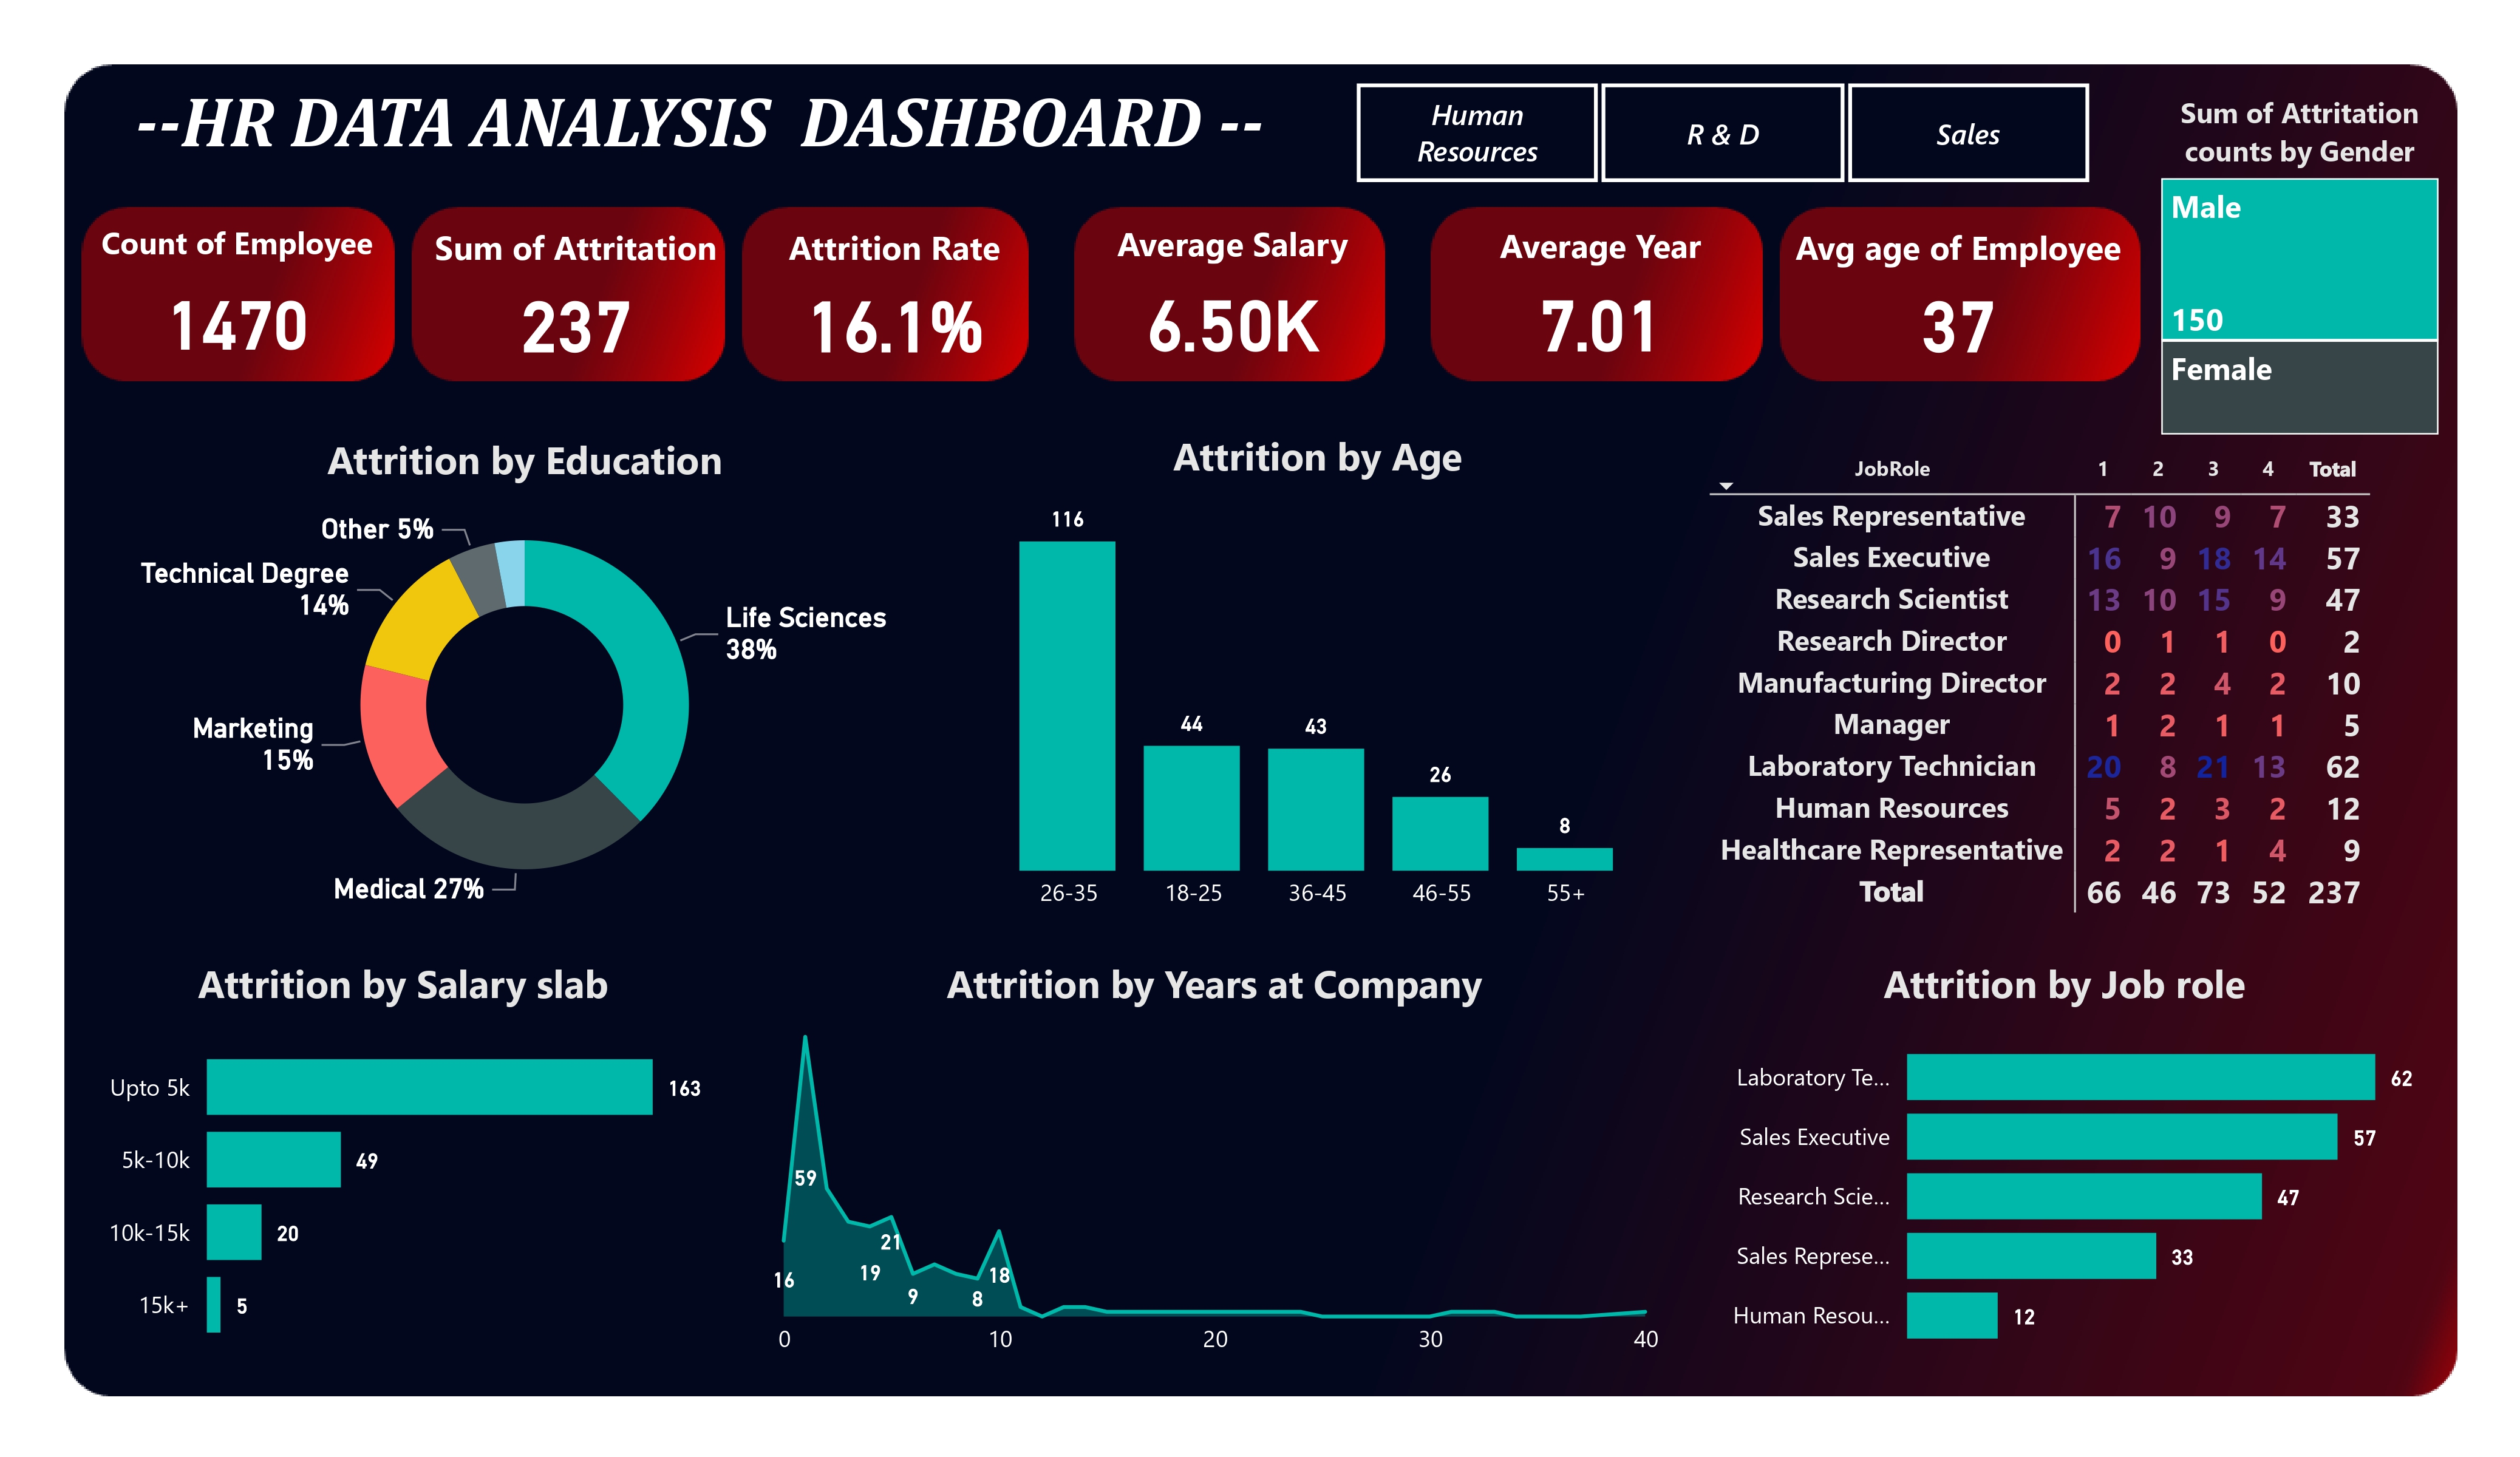

Layout of this report page (visuals, bound fields, positions):
{"tool":"powerbi","page":{"name":"HR data analysis","canvas":[1280,720],"ordinal":2},"visuals":[{"type":"card","title":"Count of Employee","fields":{"Values":["CountNonNull(HR_Analytics.EmpID)"]},"box":[20,92.9,162.1,81.1],"z":0,"group":"g1"},{"type":"donutChart","title":"Attrition by Education","fields":{"Category":["HR_Analytics.EducationField"],"Y":["Sum(HR_Analytics.Attritation counts)"]},"box":[23.5,203.6,458.1,261],"z":0},{"type":"card","title":"Sum of  Attritation","fields":{"Values":["Sum(HR_Analytics.Attritation counts)"]},"box":[195.2,93.5,169.3,79.9],"z":1000,"group":"g1"},{"type":"clusteredColumnChart","title":"Attrition by Age","fields":{"Category":["HR_Analytics.AgeGroup"],"Y":["Sum(HR_Analytics.Attritation counts)"]},"box":[481.6,202.3,377.2,262.3],"z":1000},{"type":"card","title":"Attrition Rate","fields":{"Values":["HR_Analytics.Attritation Rate"]},"box":[370.5,93.5,155,79.9],"z":2000,"group":"g1"},{"type":"pivotTable","title":"Job Satisfaction","fields":{"Values":["Sum(HR_Analytics.Attritation counts)"],"Rows":["HR_Analytics.JobRole"],"Columns":["HR_Analytics.JobSatisfaction"]},"box":[871.8,210.1,374.6,255.8],"z":2000},{"type":"card","title":"Avg age of Employee","fields":{"Values":["Avg(HR_Analytics.Age)"]},"box":[915.2,93.5,186,79.9],"z":3000,"group":"g1"},{"type":"treemap","fields":{"Group":["HR_Analytics.Gender"],"Values":["Sum(HR_Analytics.Attritation counts)"]},"box":[1110.2,25.2,155.3,184.7],"z":3000},{"type":"card","title":"Average Salary ","fields":{"Values":["Avg(HR_Analytics.MonthlyIncome)"]},"box":[543.3,91.7,164.5,83.4],"z":4000,"group":"g1"},{"type":"clusteredBarChart","title":"Attrition by Salary slab","fields":{"Category":["HR_Analytics.SalarySlab"],"Y":["Sum(HR_Analytics.Attritation counts)"]},"box":[23.8,479.6,329.5,220.2],"z":4000},{"type":"card","title":"Average Year ","fields":{"Values":["Avg(HR_Analytics.YearsAtCompany)"]},"box":[737.6,92.9,163.3,81.1],"z":5000,"group":"g1"},{"type":"clusteredBarChart","title":"Attrition by Job role","fields":{"Category":["HR_Analytics.JobRole"],"Y":["Sum(HR_Analytics.Attritation counts)"]},"box":[872.2,479.6,384.2,220.2],"z":5000},{"type":"stackedAreaChart","title":"Attrition by Years at Company","fields":{"Category":["HR_Analytics.YearsAtCompany"],"Y":["Sum(HR_Analytics.Attritation counts)"]},"box":[374.4,479.6,483.8,220.2],"z":6000},{"type":"group","id":"g1","title":"Group 1","box":[20,91.7,1081.2,83.4],"z":7000},{"type":"textbox","box":[23.8,13.1,641.3,53.6],"z":8000},{"type":"slicer","fields":{"Values":["HR_Analytics.Department"]},"box":[665.2,13.1,436.3,65.6],"z":9000}]}

Visuals, with their boxes in screenshot pixels (x1, y1, x2, y2):
"Count of Employee" card: crop(84, 222, 391, 376)
"Attrition by Education" donutChart: crop(90, 432, 959, 927)
"Sum of  Attritation" card: crop(416, 223, 737, 375)
"Attrition by Age" clusteredColumnChart: crop(959, 429, 1675, 927)
"Attrition Rate" card: crop(749, 223, 1043, 375)
"Job Satisfaction" pivotTable: crop(1700, 444, 2411, 929)
"Avg age of Employee" card: crop(1782, 223, 2135, 375)
treemap - HR_Analytics.Gender x Sum(HR_Analytics.Attritation counts): crop(2152, 93, 2447, 444)
"Average Salary " card: crop(1077, 220, 1389, 378)
"Attrition by Salary slab" clusteredBarChart: crop(90, 956, 716, 1373)
"Average Year " card: crop(1445, 222, 1755, 376)
"Attrition by Job role" clusteredBarChart: crop(1701, 956, 2430, 1373)
"Attrition by Years at Company" stackedAreaChart: crop(756, 956, 1674, 1373)
"Group 1" group: crop(84, 220, 2135, 378)
textbox: crop(90, 70, 1307, 172)
slicer - HR_Analytics.Department: crop(1308, 70, 2136, 195)
